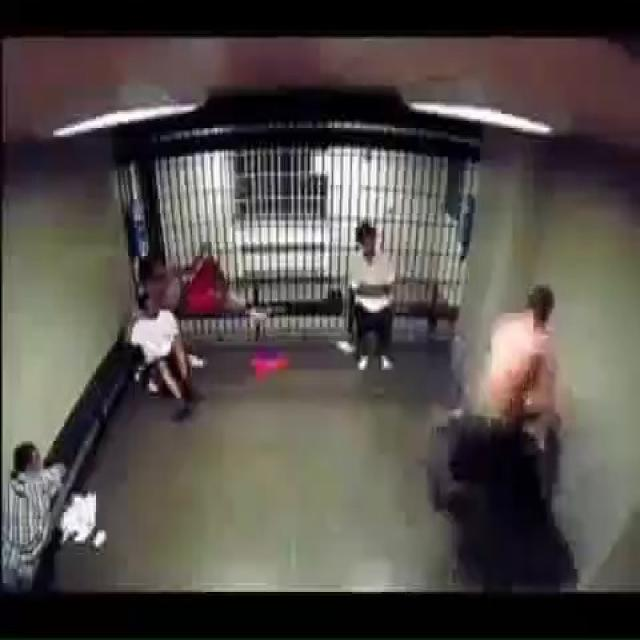fight: (397, 250, 593, 600)
